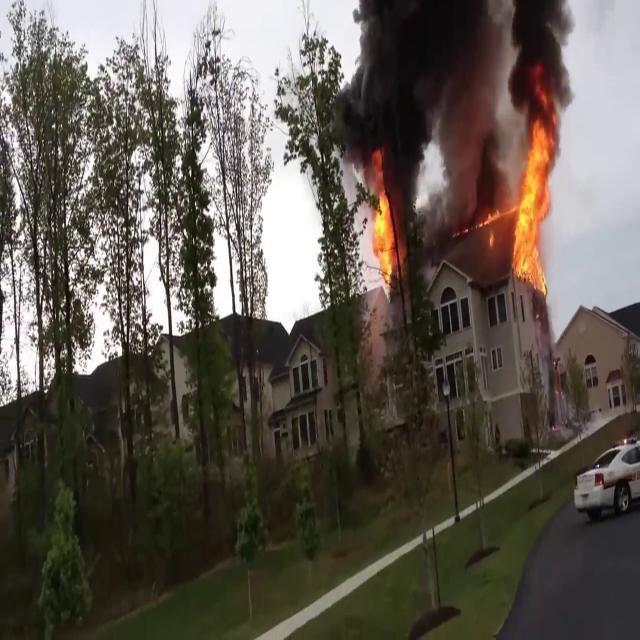Fire: (509, 117, 557, 295), (367, 167, 399, 288), (477, 200, 509, 258)
Smoke: (340, 0, 510, 228)
